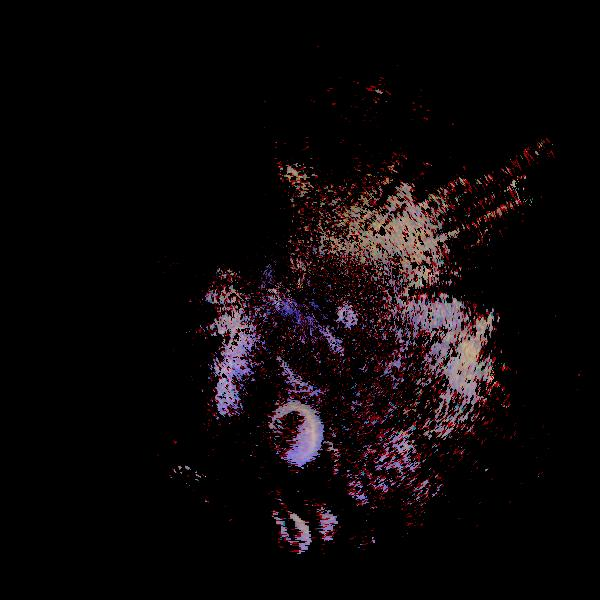roost: (259, 398, 328, 467), (235, 504, 292, 561), (259, 506, 316, 563), (286, 496, 340, 550)
